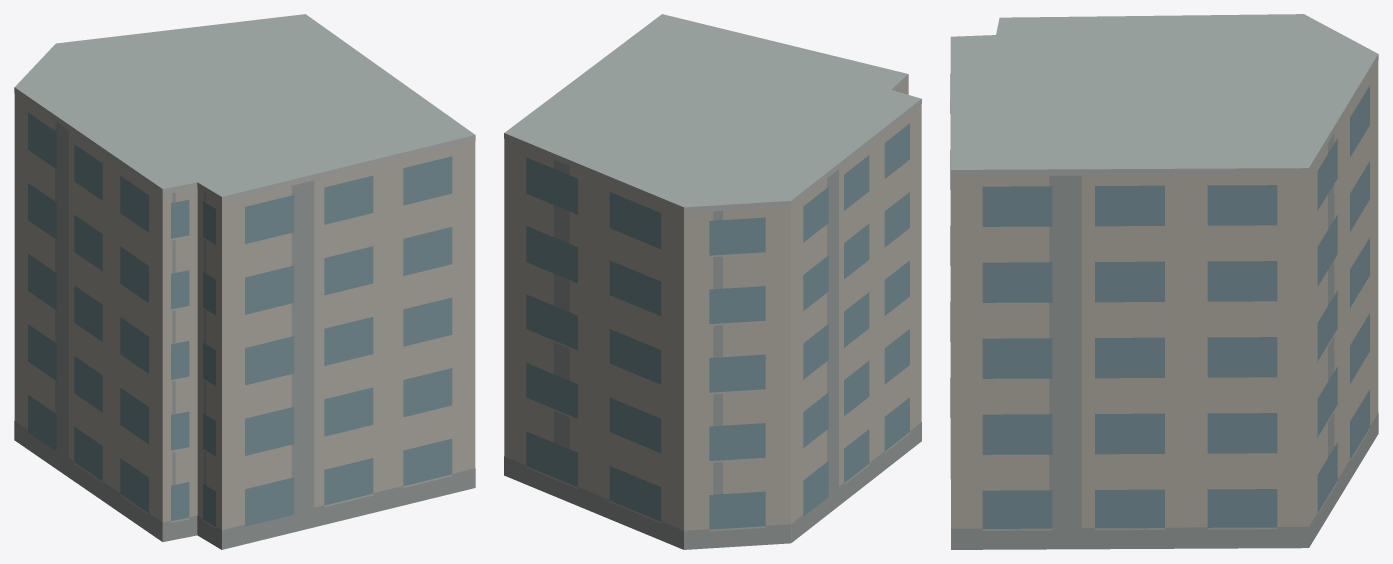
File: survey-upis-32786761.glb
3 renders of one model, left to right at view 1: azimuth 30°, elevation 25°; view 2: azimuth 150°, elevation 25°; view 3: azimuth 270°, elevation 25°, orthographic. The views are drawn at different scales.
Parts seen in each view (by area): view 1: survey-upis-32786761.tmp; view 2: survey-upis-32786761.tmp; view 3: survey-upis-32786761.tmp.
Boxes of the visible parts, x1,y1,x2,y2 form: survey-upis-32786761.tmp: (14,14,475,549); survey-upis-32786761.tmp: (504,14,921,549); survey-upis-32786761.tmp: (950,14,1378,549).
Size of the model in its own units: 12.77 by 14.5 by 14.81.
